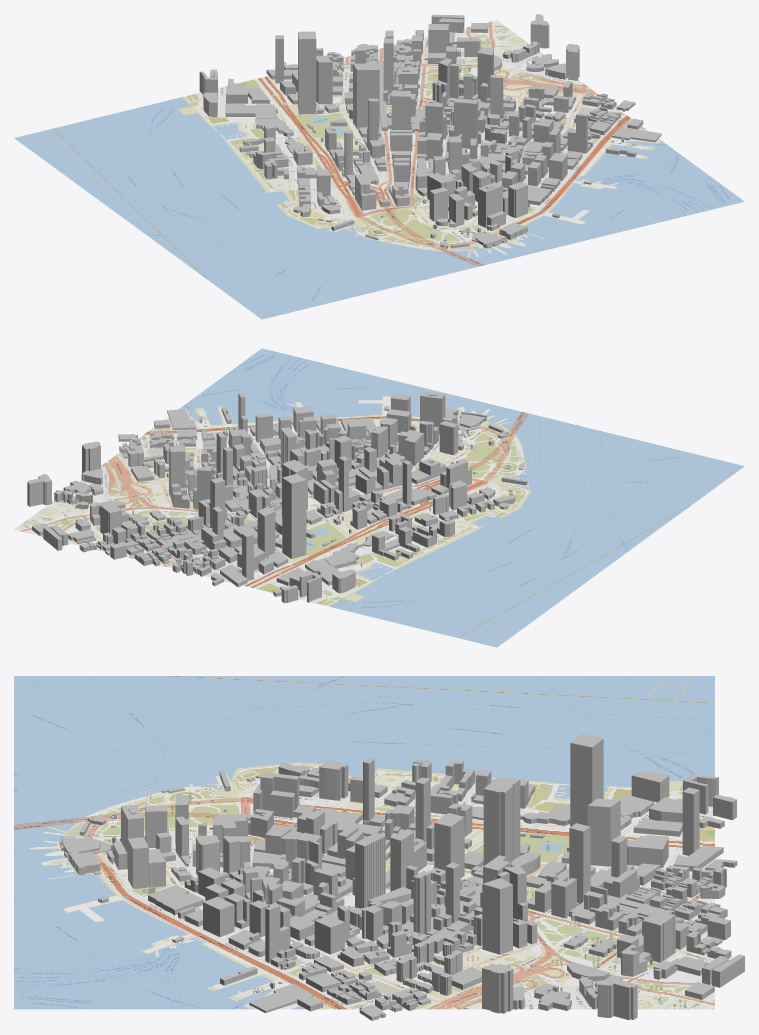
Rendered from Lower Manhattan.obj.
3 views of the same model, one above another, from view 1: azimuth 30°, elevation 25°; view 2: azimuth 150°, elevation 25°; view 3: azimuth 270°, elevation 25° (orthographic). The views are drawn at different scales.
Visible parts, largest first — view 1: EXPORT_ESRI_STREET_WM_EXPORT_ESRI_STREET_WM.006, Areas:building_Areas:building.004; view 2: EXPORT_ESRI_STREET_WM_EXPORT_ESRI_STREET_WM.006, Areas:building_Areas:building.004; view 3: EXPORT_ESRI_STREET_WM_EXPORT_ESRI_STREET_WM.006, Areas:building_Areas:building.004.
Boxes of the visible parts, left/top/right/bottom form: EXPORT_ESRI_STREET_WM_EXPORT_ESRI_STREET_WM.006: left=14, top=20, right=744, bottom=319; Areas:building_Areas:building.004: left=199, top=14, right=661, bottom=248; EXPORT_ESRI_STREET_WM_EXPORT_ESRI_STREET_WM.006: left=14, top=348, right=744, bottom=647; Areas:building_Areas:building.004: left=27, top=391, right=527, bottom=603; EXPORT_ESRI_STREET_WM_EXPORT_ESRI_STREET_WM.006: left=14, top=676, right=714, bottom=1009; Areas:building_Areas:building.004: left=59, top=733, right=744, bottom=1020.
Bounding box in the file's own units: 2848 × 410 × 2551.
2 materials, 1 textured.
